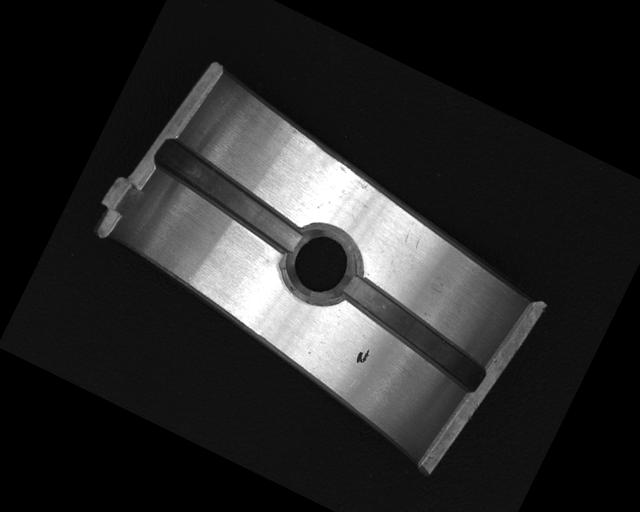blot: (354, 345, 372, 367)
gap: (141, 134, 319, 259), (329, 269, 500, 392)
hole: (277, 217, 370, 312)
